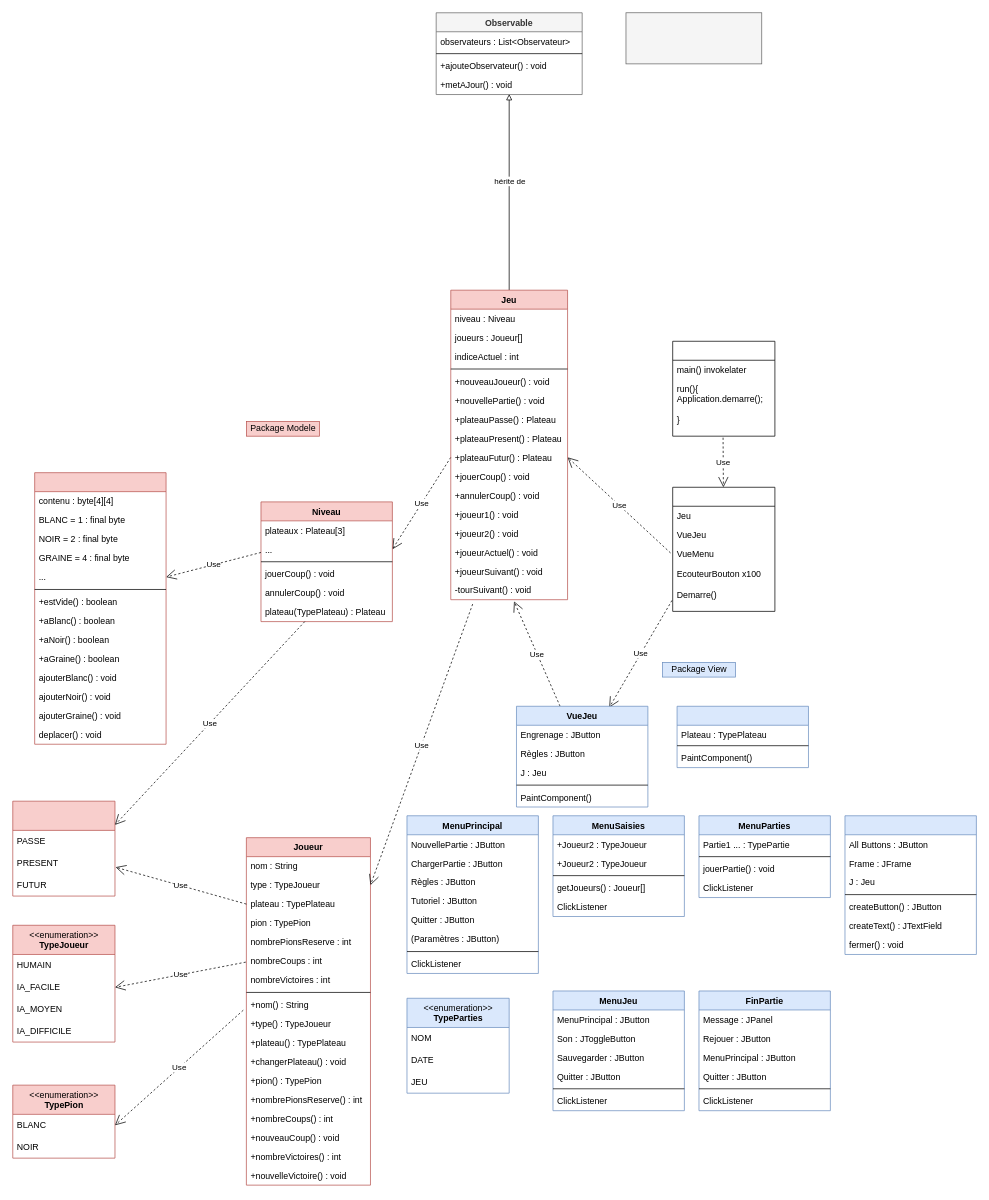
Some shapes in this 989 by 1200 pixel diagram are drawn without their labels. Here are the shapes that lost their labels. From the top down, the box of each, then its label:
(625, 12, 762, 64): <<Interface>> Observateur + miseAJour(): void
(672, 341, 775, 436): TTYKM
(672, 487, 775, 611): Application
(34, 472, 166, 744): Plateau
(676, 706, 808, 768): VuePlateau
(12, 800, 115, 896): <<enumeration>> TypePlateau
(844, 815, 976, 954): InterfaceGraphique
